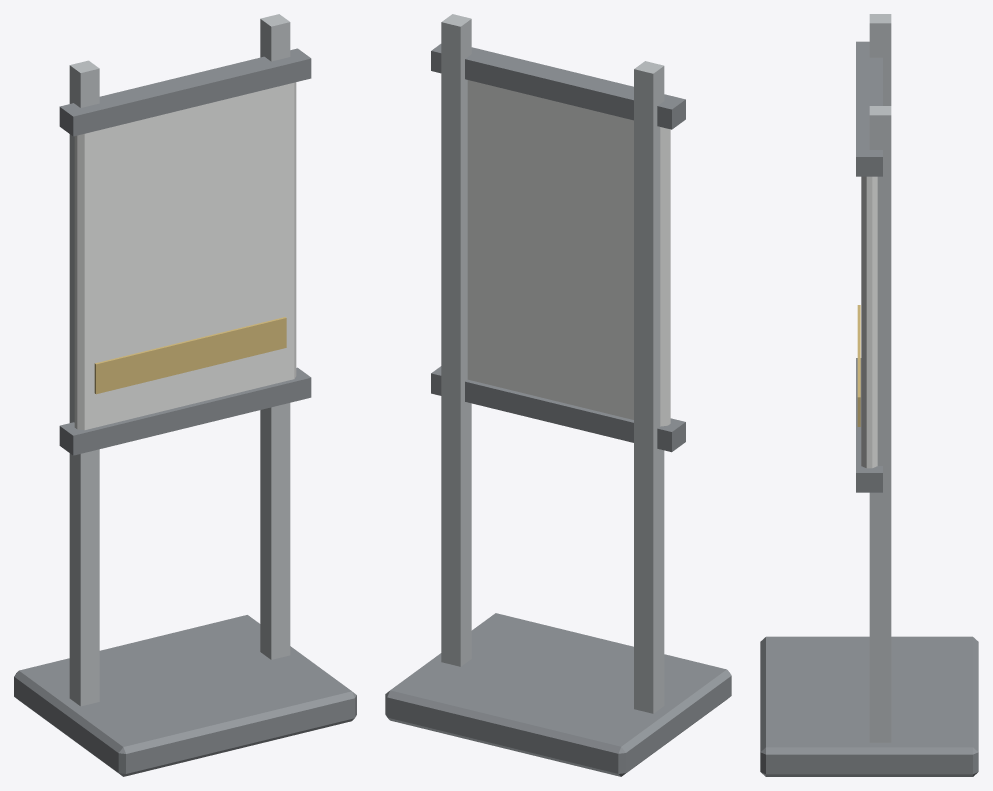
The model's file is P_sign_stand.fbx.
The picture shows the model from 3 angles, left to right: view 1: azimuth 30°, elevation 25°; view 2: azimuth 150°, elevation 25°; view 3: azimuth 270°, elevation 25°; orthographic projection. The views are drawn at different scales.
Visible parts, largest first — view 1: P_sign_stand; view 2: P_sign_stand; view 3: P_sign_stand.
Boxes of the visible parts, x1,y1,x2,y2 form: P_sign_stand: (14, 14, 356, 776); P_sign_stand: (385, 14, 731, 776); P_sign_stand: (760, 14, 978, 776).
Size of the model in its own units: 0.5 by 1.33 by 0.4.
